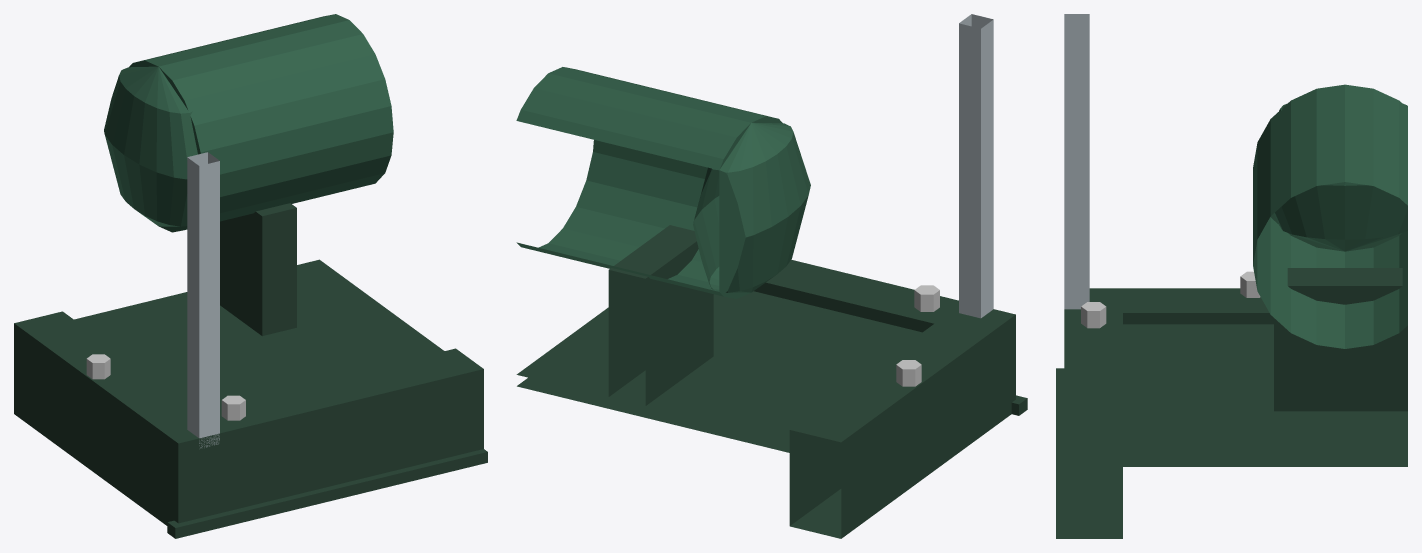
The model's file is cell_28.obj.
The picture shows the model from 3 angles, left to right: view 1: azimuth 30°, elevation 25°; view 2: azimuth 150°, elevation 25°; view 3: azimuth 270°, elevation 25°; orthographic projection. The views are drawn at different scales.
Size of the model in its own units: 0.9 by 1 by 0.84.
